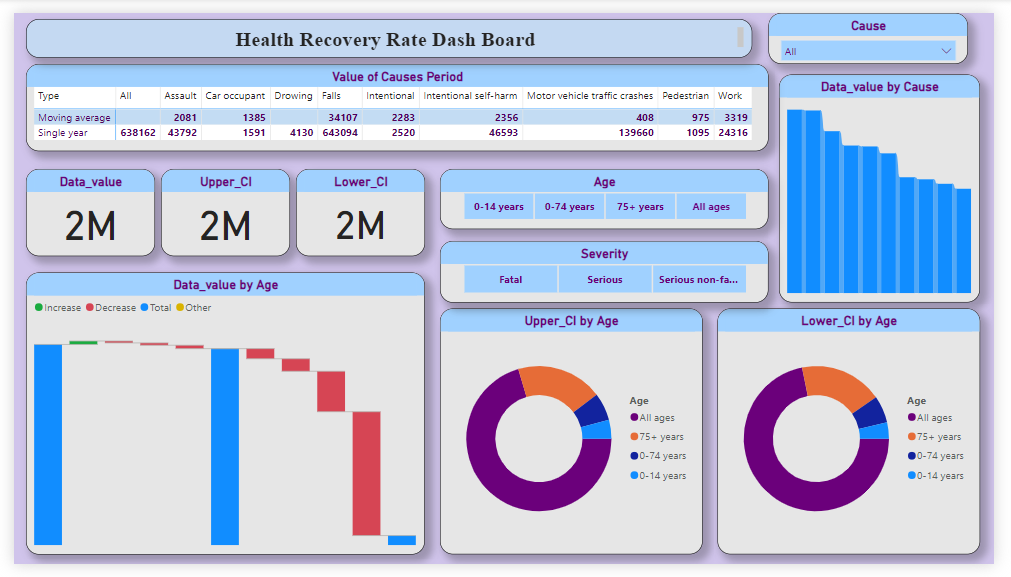

The page's visual inventory and layout, read from the dashboard file:
{"tool":"powerbi","page":{"name":"Page 1","canvas":[1280,720],"ordinal":0},"visuals":[{"type":"waterfallChart","title":"Data_value by Age","fields":{"Category":["Health Recovery Rate.Severity"],"Y":["Sum(Health Recovery Rate.Data_value)"],"Breakdown":["Health Recovery Rate.Age"]},"box":[15.7,339.2,521.6,368.6],"z":0},{"type":"columnChart","title":"Data_value by Cause","fields":{"Category":["Health Recovery Rate.Cause"],"Y":["Sum(Health Recovery Rate.Data_value)"]},"box":[1000,80.4,262.7,298],"z":1000},{"type":"card","title":"Data_value","fields":{"Values":["Sum(Health Recovery Rate.Data_value)"]},"box":[15.7,203.9,168.6,113.7],"z":2000},{"type":"slicer","title":"Cause","fields":{"Values":["Health Recovery Rate.Cause"]},"box":[986.3,0,260.8,66.7],"z":3000},{"type":"pivotTable","title":"Value of Causes Period","fields":{"Rows":["Health Recovery Rate.Type"],"Columns":["Health Recovery Rate.Cause"],"Values":["Sum(Health Recovery Rate.Data_value)"]},"box":[15.7,66.7,970.6,113.7],"z":4000},{"type":"card","title":"Upper_CI","fields":{"Values":["Sum(Health Recovery Rate.Upper_CI)"]},"box":[192.2,203.9,168.6,113.7],"z":5000},{"type":"card","title":"Lower_CI","fields":{"Values":["Sum(Health Recovery Rate.Lower_CI)"]},"box":[368.6,203.9,168.6,113.7],"z":6000},{"type":"textbox","box":[15.7,7.8,949,51],"z":7000},{"type":"donutChart","title":"Lower_CI by Age","fields":{"Category":["Health Recovery Rate.Age"],"Y":["Sum(Health Recovery Rate.Lower_CI)"]},"box":[919.6,386.3,343.1,321.6],"z":8000},{"type":"donutChart","title":"Upper_CI by Age","fields":{"Category":["Health Recovery Rate.Age"],"Y":["Sum(Health Recovery Rate.Upper_CI)"]},"box":[556.9,386.3,343.1,321.6],"z":9000},{"type":"slicer","title":"Severity","fields":{"Values":["Health Recovery Rate.Severity"]},"box":[556.9,298,429.4,80.4],"z":10000},{"type":"slicer","title":"Age","fields":{"Values":["Health Recovery Rate.Age"]},"box":[556.9,203.9,429.4,78.4],"z":11000}]}

Visuals, with their boxes in screenshot pixels (x1, y1, x2, y2), scaled from the page's 1280x720 canvas onto the 1011x577 screenshot:
"Data_value by Age" waterfallChart: (x1=12, y1=272, x2=424, y2=567)
"Data_value by Cause" columnChart: (x1=790, y1=64, x2=997, y2=303)
"Data_value" card: (x1=12, y1=163, x2=146, y2=255)
"Cause" slicer: (x1=779, y1=0, x2=985, y2=53)
"Value of Causes Period" pivotTable: (x1=12, y1=53, x2=779, y2=145)
"Upper_CI" card: (x1=152, y1=163, x2=285, y2=255)
"Lower_CI" card: (x1=291, y1=163, x2=424, y2=255)
textbox: (x1=12, y1=6, x2=762, y2=47)
"Lower_CI by Age" donutChart: (x1=726, y1=310, x2=997, y2=567)
"Upper_CI by Age" donutChart: (x1=440, y1=310, x2=711, y2=567)
"Severity" slicer: (x1=440, y1=239, x2=779, y2=303)
"Age" slicer: (x1=440, y1=163, x2=779, y2=226)
